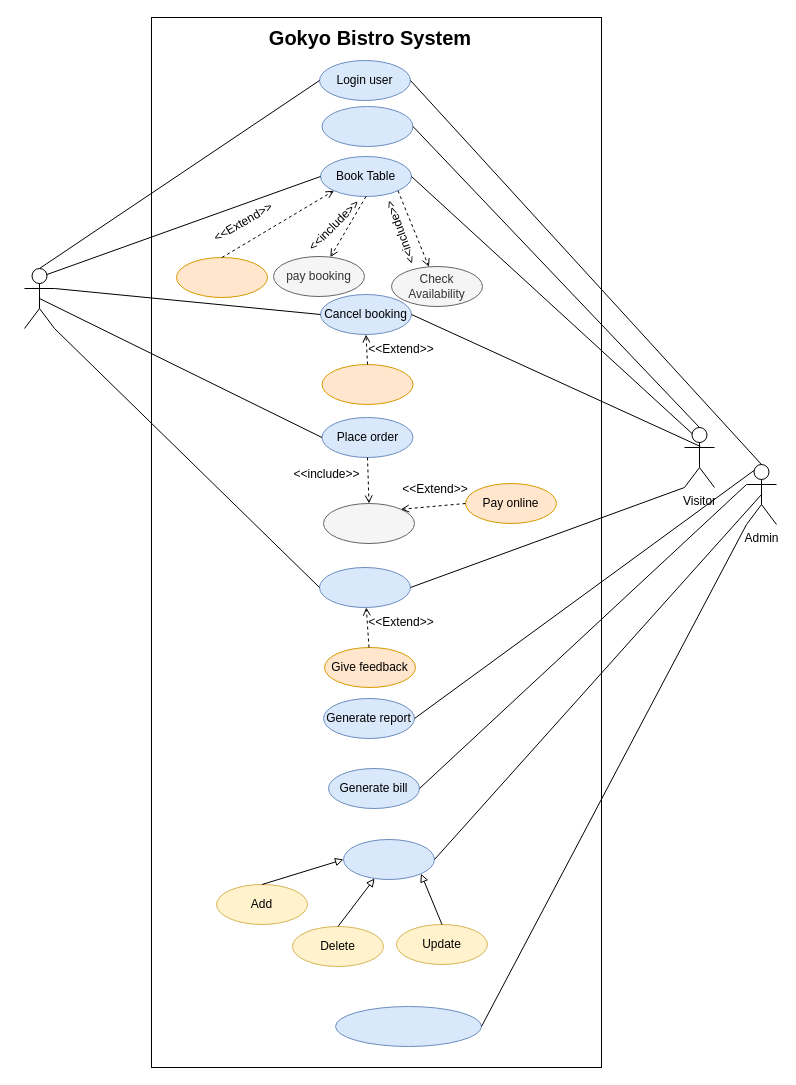
The diagram is 796 pixels wide and 1085 high, and some of its shapes have lost their labels. Each missing label, with the centre of its shape:
Member: the point at 39,298
pay order: the point at 368,523
Post offers and Scheme: the point at 408,1026
Rate experience: the point at 364,587
Register user: the point at 367,126
Return Payment: the point at 367,384
set Beverage choices: the point at 222,277
Update menu: the point at 388,859
